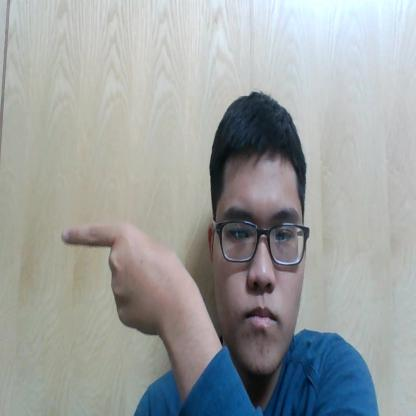right: (55, 209, 198, 354)
